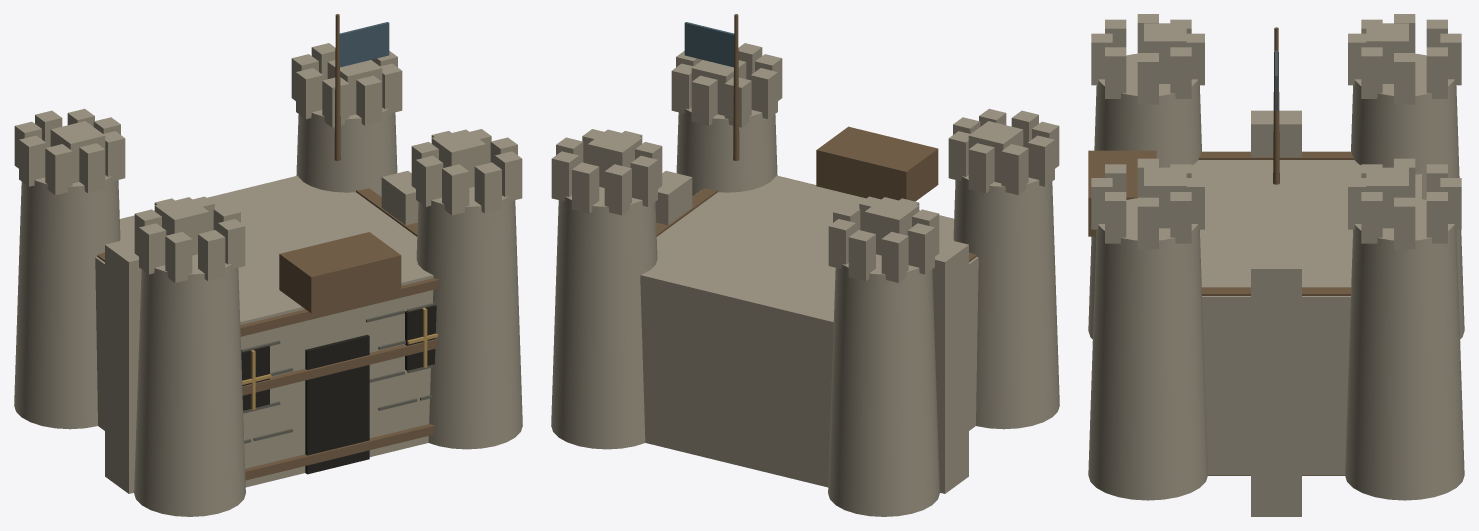
File: b-tower-steppe.glb
3 views of the same model, side by side, from view 1: azimuth 30°, elevation 25°; view 2: azimuth 150°, elevation 25°; view 3: azimuth 270°, elevation 25° (orthographic). The views are drawn at different scales.
Visible parts, largest first — view 1: Structure, fortification3, fortification2; view 2: Structure, fortification3, fortification2; view 3: Structure, fortification3, fortification2.
Part boxes in pixels (x1,y1,x2,y2): Structure: (14, 14, 522, 516); fortification3: (50, 60, 486, 493); fortification2: (105, 193, 418, 459); Structure: (551, 14, 1059, 516); fortification3: (587, 60, 1023, 493); fortification2: (655, 193, 968, 469); Structure: (1088, 14, 1464, 500); fortification3: (1088, 23, 1408, 516); fortification2: (1251, 141, 1301, 499).
Size of the model in its own units: 5.4 by 5.75 by 4.4.
